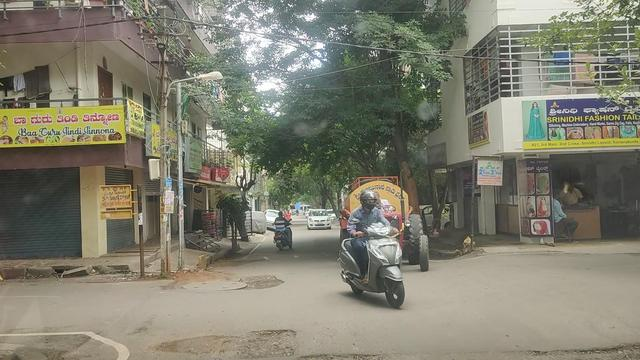LMV: (353, 199, 401, 307)
RoadDamages: (164, 325, 297, 360), (476, 339, 640, 360), (187, 275, 277, 291)
